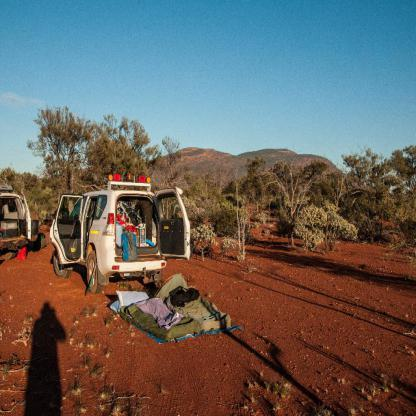car: (48, 180, 181, 302), (0, 182, 33, 240)
